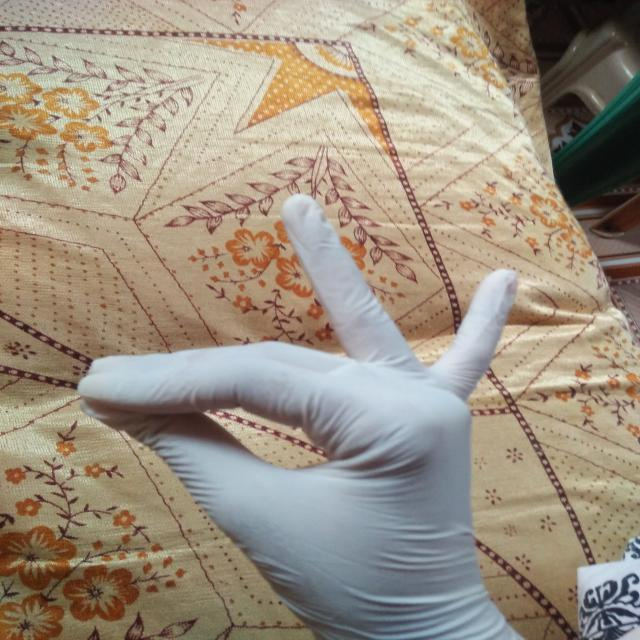glove_hand: (72, 193, 527, 640)
